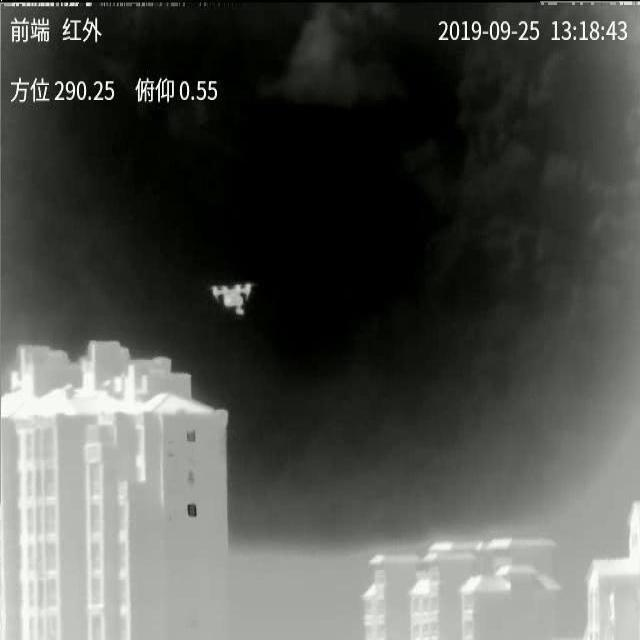drone: (211, 283, 254, 315)
